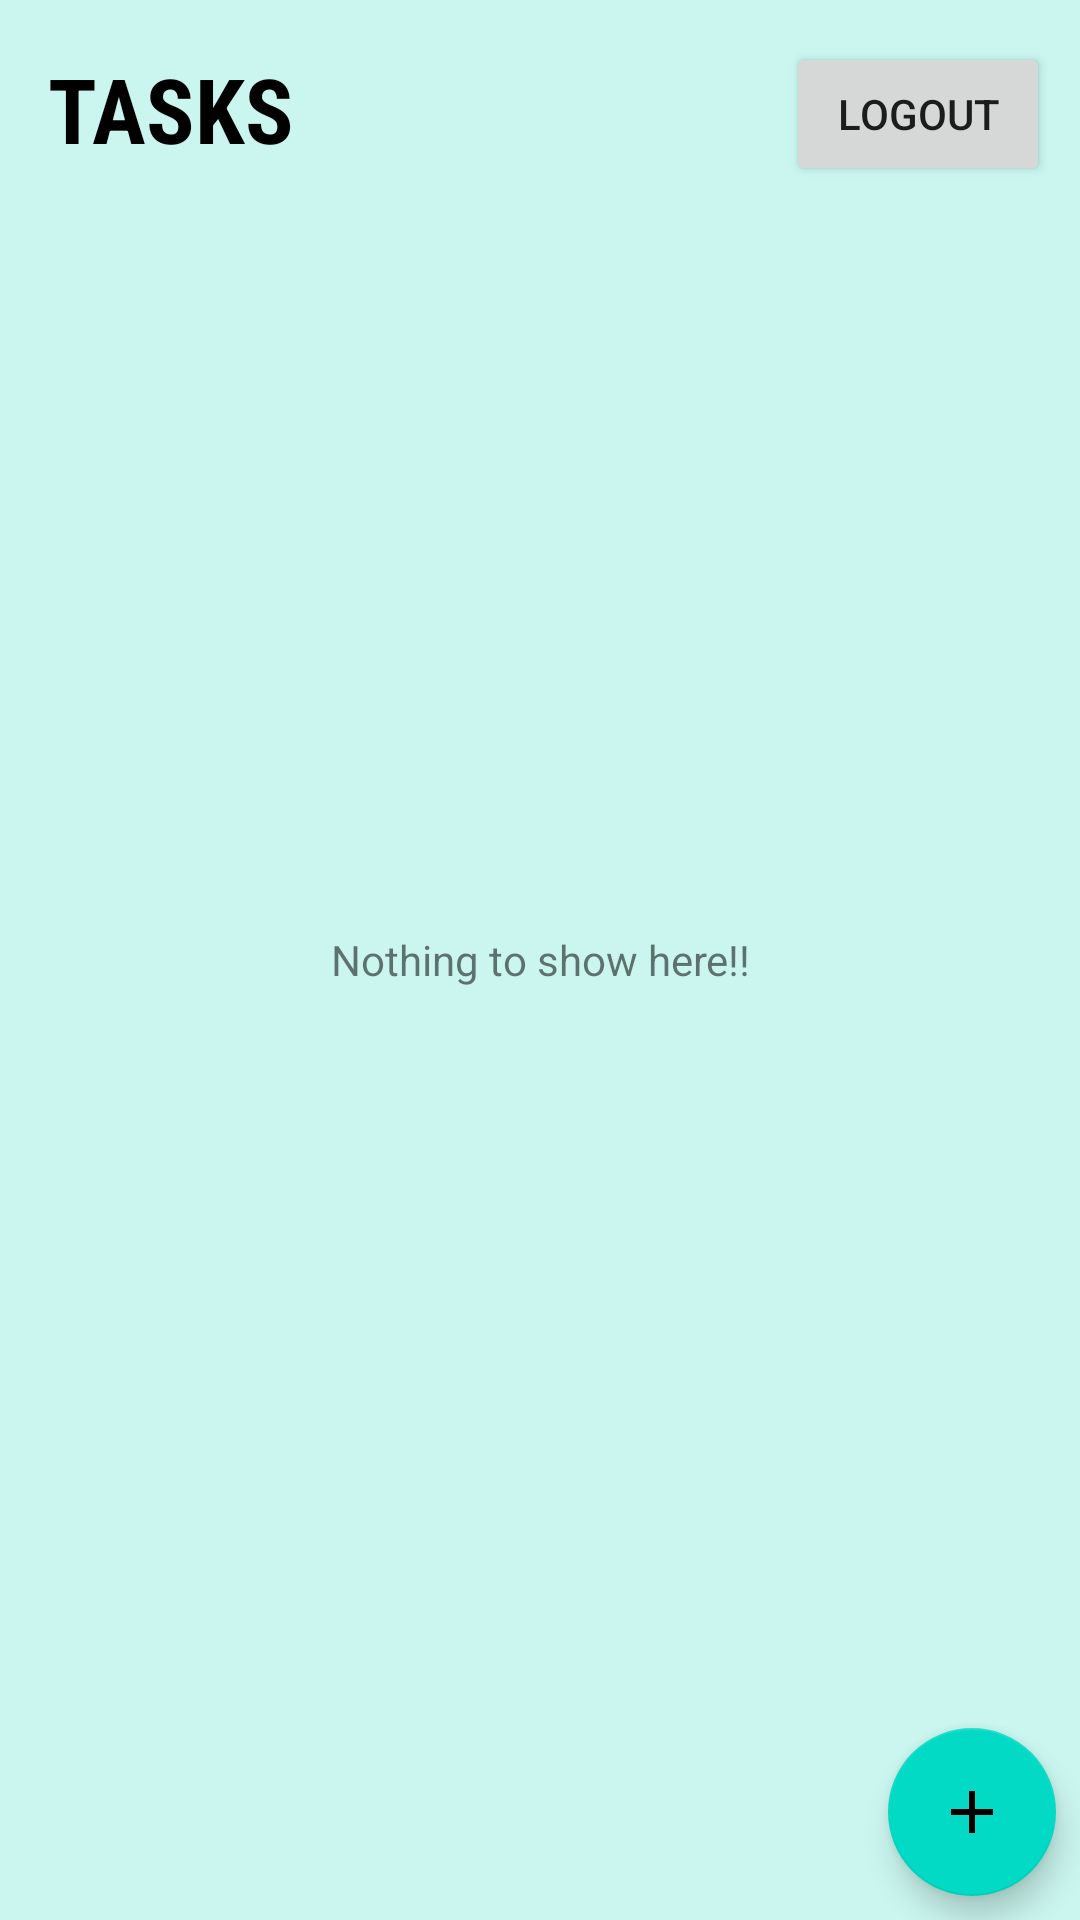

Named icons in this screenshot (1080 × 1920) and their centers, (x,y):
add task: (972,1812)
